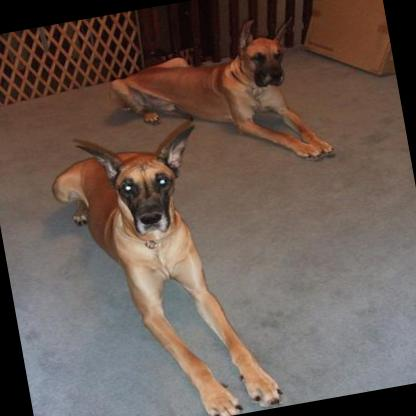Great_Dane: (40, 107, 287, 416), (98, 3, 336, 193)
